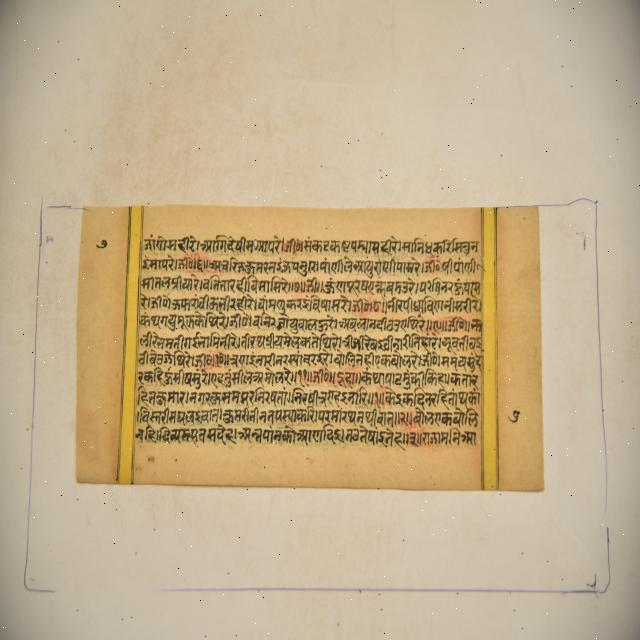text_paragraph: (74, 203, 543, 493)
